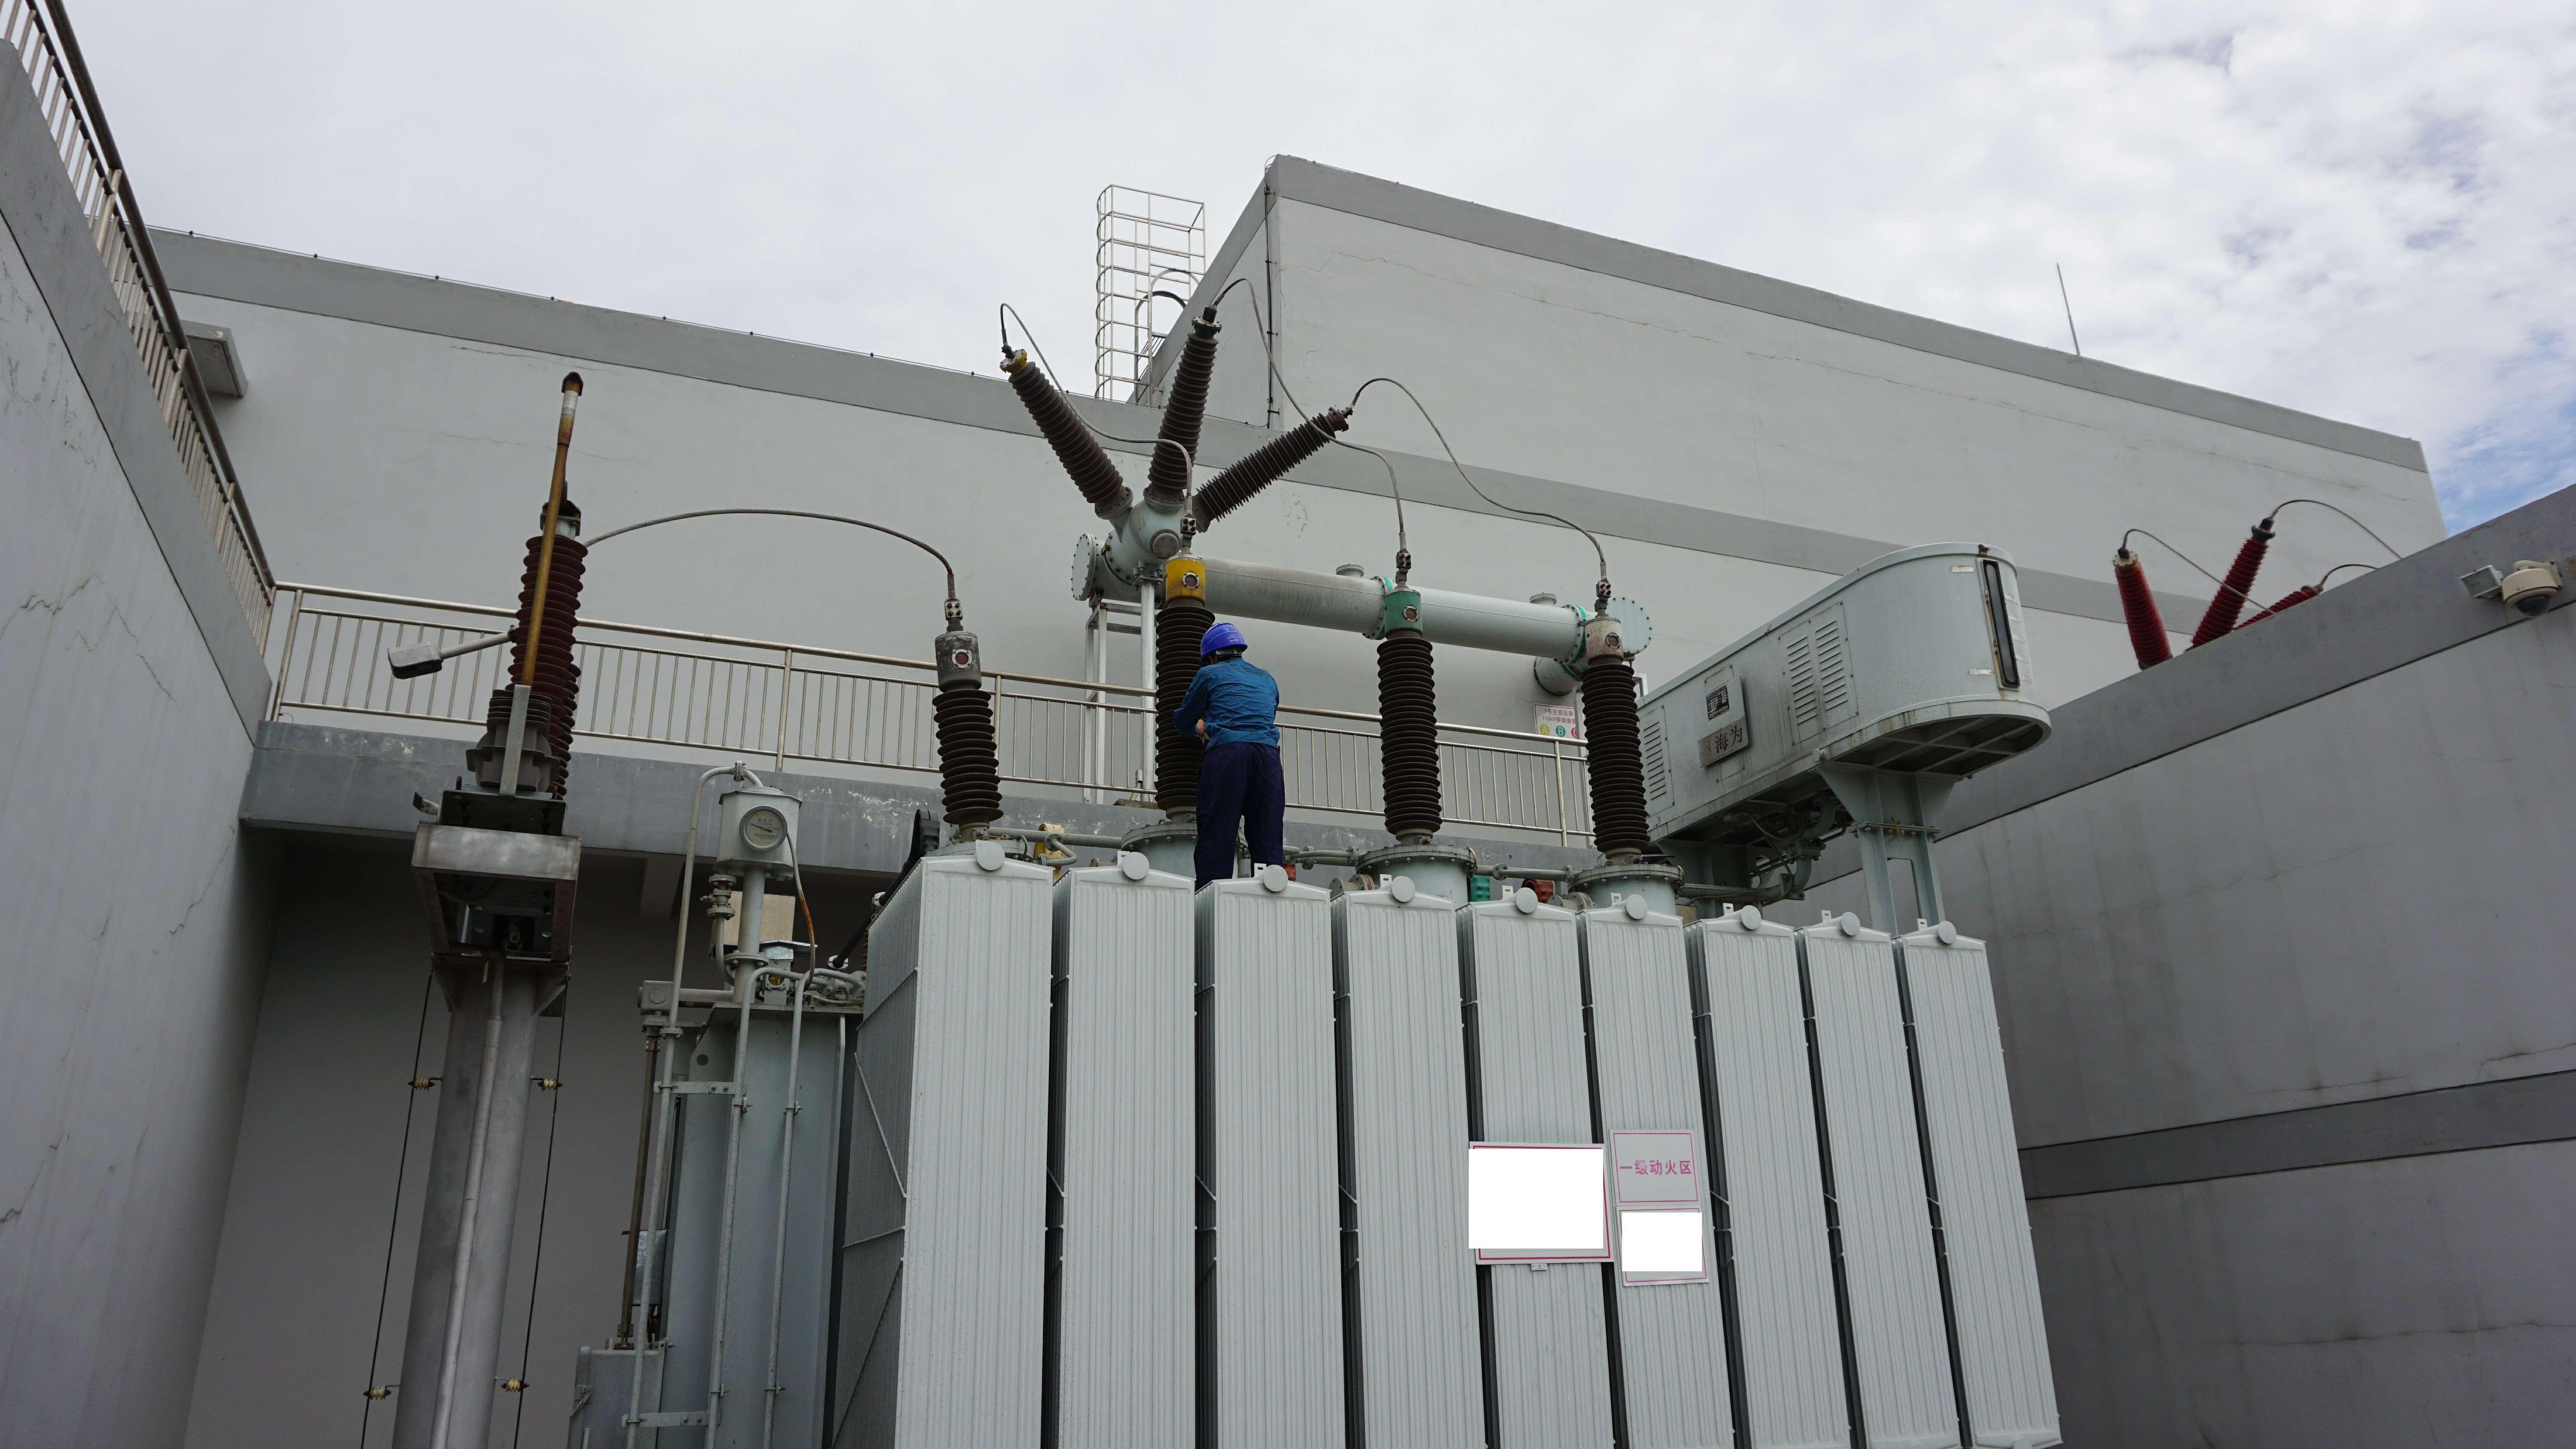hat: (1194, 616, 1256, 674)
